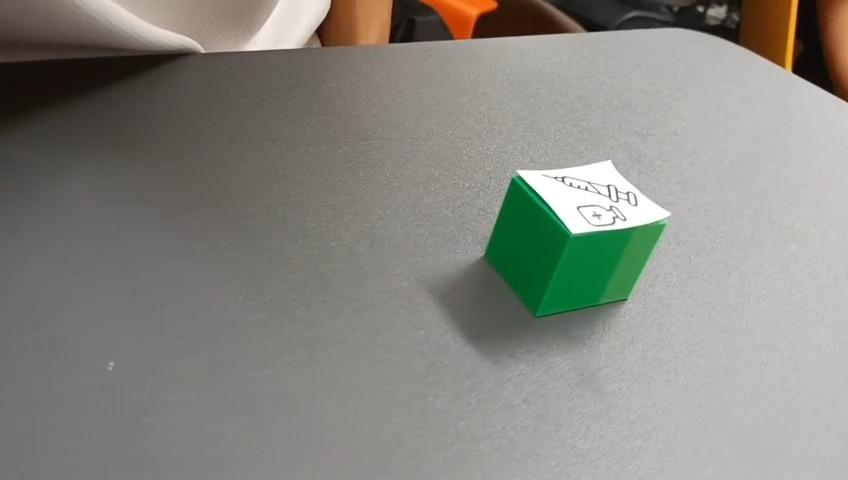antiseptic cream: (483, 157, 671, 318)
